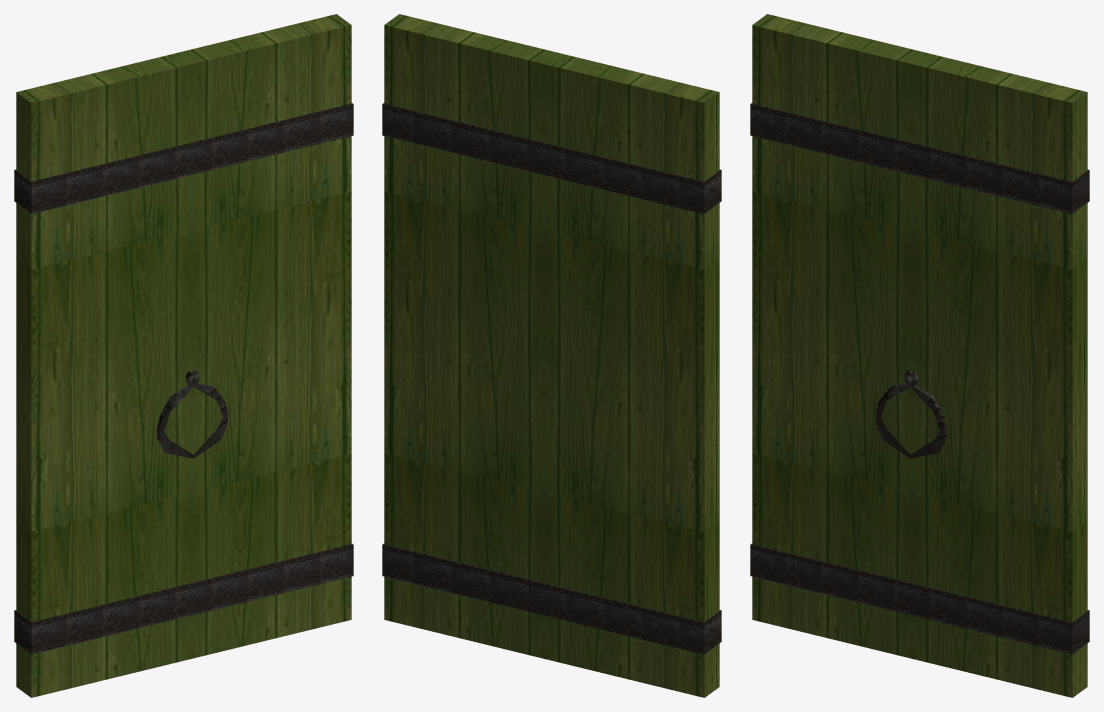
Rendered from GreenDoor.fbx.
The picture shows the model from 3 angles, left to right: view 1: azimuth 30°, elevation 25°; view 2: azimuth 150°, elevation 25°; view 3: azimuth 330°, elevation 25°; orthographic projection.
Parts seen in each view (by area): view 1: Door; view 2: Door; view 3: Door.
Part boxes in pixels (x1,y1,x2,y2): Door: (14,14,353,697); Door: (382,14,721,697); Door: (750,14,1089,697).
Size of the model in its own units: 1032 by 1821 by 102.
Materials: 4 (4 with a texture image).
